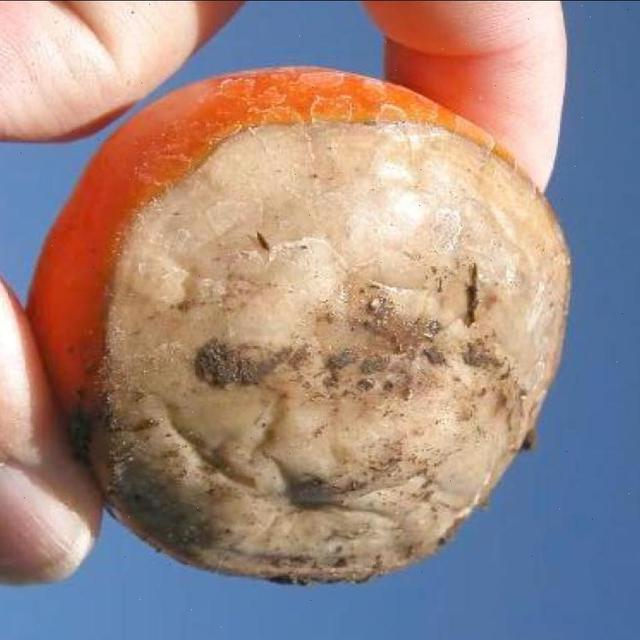Blossom End Rot Fruit: (61, 79, 381, 386)
